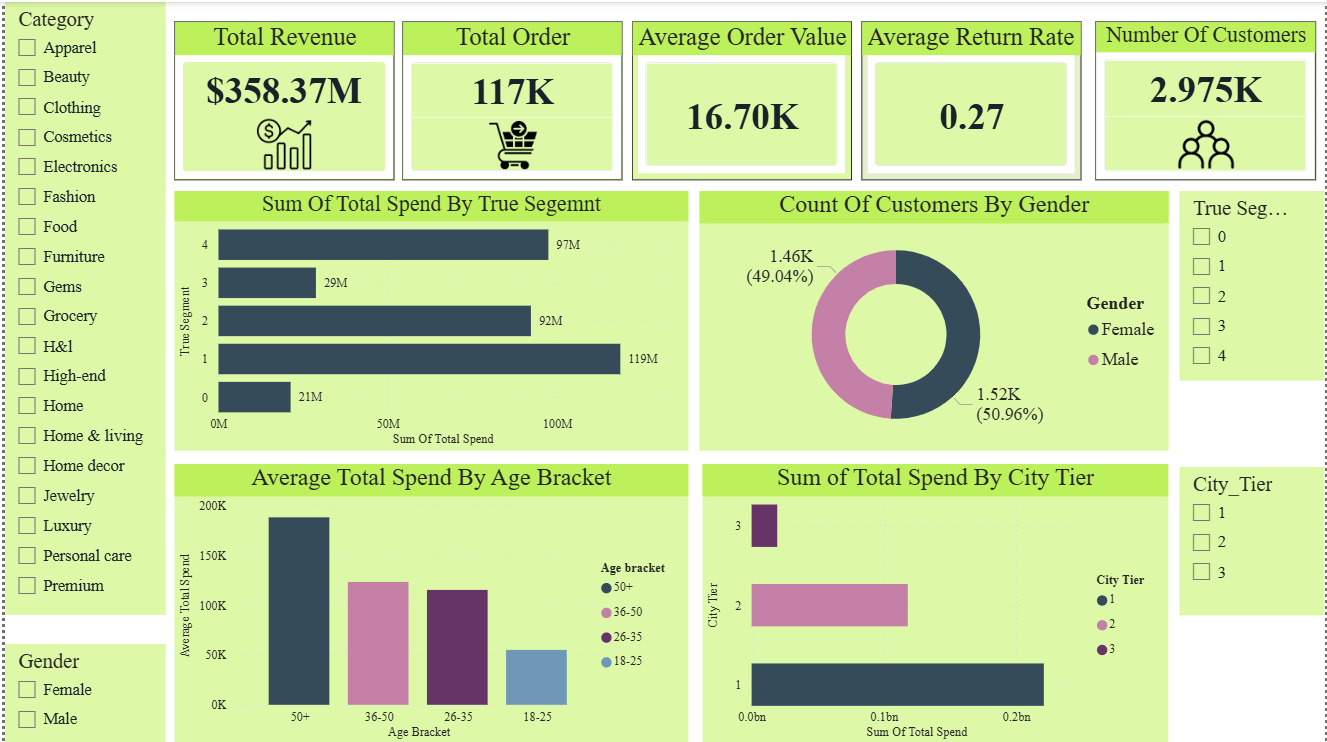

What the dashboard file says about the page in this screenshot:
{"tool":"powerbi","page":{"name":"Page 1","canvas":[1280,720],"ordinal":0},"visuals":[{"type":"cardVisual","title":"Number Of Customers ","fields":{"Data":["Count(shopsmart_customers cleaned.Customer_ID)"]},"box":[1058.5,18.2,213.7,154.1],"z":1000},{"type":"cardVisual","title":"Average Order Value","fields":{"Data":["Avg(shopsmart_customers cleaned.AOV)"]},"box":[607.9,18.2,213,154.1],"z":3000},{"type":"cardVisual","title":"Total Revenue ","fields":{"Data":["Sum(shopsmart_customers cleaned.Total_Spend)"]},"box":[164,18.2,213,154],"z":3500},{"type":"cardVisual","title":"Return Rate","fields":{"Data":["Sum(shopsmart_customers cleaned.Return_Rate)"]},"box":[831.6,18.2,213,154.1],"z":4000},{"type":"cardVisual","title":"Total Order","fields":{"Data":["Sum(shopsmart_customers cleaned.Total_Orders)"]},"box":[386,18.2,213,154.1],"z":5000},{"type":"clusteredBarChart","title":"Sum Of Total Spend By True Segemnt","fields":{"Category":["shopsmart_customers cleaned.True_Segment"],"Y":["Sum(shopsmart_customers cleaned.Total_Spend)"]},"box":[164,183.9,498.6,251.8],"z":6000},{"type":"donutChart","title":"Count Of Customers By Gender","fields":{"Category":["shopsmart_customers cleaned.Gender"],"Y":["CountNonNull(shopsmart_customers cleaned.Customer_ID)"]},"box":[674.2,183.9,455.5,251.8],"z":7000},{"type":"columnChart","title":"Average Total Spend By Age Bracket","fields":{"Category":["shopsmart_customers cleaned.age_bracket"],"Y":["Avg(shopsmart_customers cleaned.Total_Spend)"],"Series":["shopsmart_customers cleaned.age_bracket"]},"box":[164,448.9,498.6,271.7],"z":8000},{"type":"barChart","title":"Sum of Total Spend By City Tier","fields":{"Y":["Sum(shopsmart_customers cleaned.Total_Spend)"],"Category":["shopsmart_customers cleaned.City_Tier"],"Series":["shopsmart_customers cleaned.City_Tier"]},"box":[677.5,448.9,452.2,271.7],"z":9000},{"type":"slicer","fields":{"Values":["shopsmart_customers cleaned.Gender"]},"box":[0,622.8,155.7,97.7],"z":10000},{"type":"slicer","fields":{"Values":["shopsmart_customers cleaned.True_Segment"]},"box":[1139.7,183.9,140.8,183.9],"z":11000},{"type":"slicer","fields":{"Values":["shopsmart_customers cleaned.Preferred_Category"]},"box":[0,0,155.7,594.7],"z":12000},{"type":"slicer","fields":{"Values":["shopsmart_customers cleaned.City_Tier"]},"box":[1139.7,450.6,140.8,144.1],"z":13000}]}

Visuals, with their boxes in screenshot pixels (x1, y1, x2, y2), scaled from the page's 1280x720 canvas onto the 1327x742 screenshot:
"Number Of Customers " cardVisual: detection(1097, 19, 1319, 178)
"Average Order Value" cardVisual: detection(630, 19, 851, 178)
"Total Revenue " cardVisual: detection(170, 19, 391, 177)
"Return Rate" cardVisual: detection(862, 19, 1083, 178)
"Total Order" cardVisual: detection(400, 19, 621, 178)
"Sum Of Total Spend By True Segemnt" clusteredBarChart: detection(170, 190, 687, 449)
"Count Of Customers By Gender" donutChart: detection(699, 190, 1171, 449)
"Average Total Spend By Age Bracket" columnChart: detection(170, 463, 687, 741)
"Sum of Total Spend By City Tier" barChart: detection(702, 463, 1171, 741)
slicer - shopsmart_customers cleaned.Gender: detection(0, 642, 161, 741)
slicer - shopsmart_customers cleaned.True_Segment: detection(1182, 190, 1326, 379)
slicer - shopsmart_customers cleaned.Preferred_Category: detection(0, 0, 161, 613)
slicer - shopsmart_customers cleaned.City_Tier: detection(1182, 464, 1326, 613)
